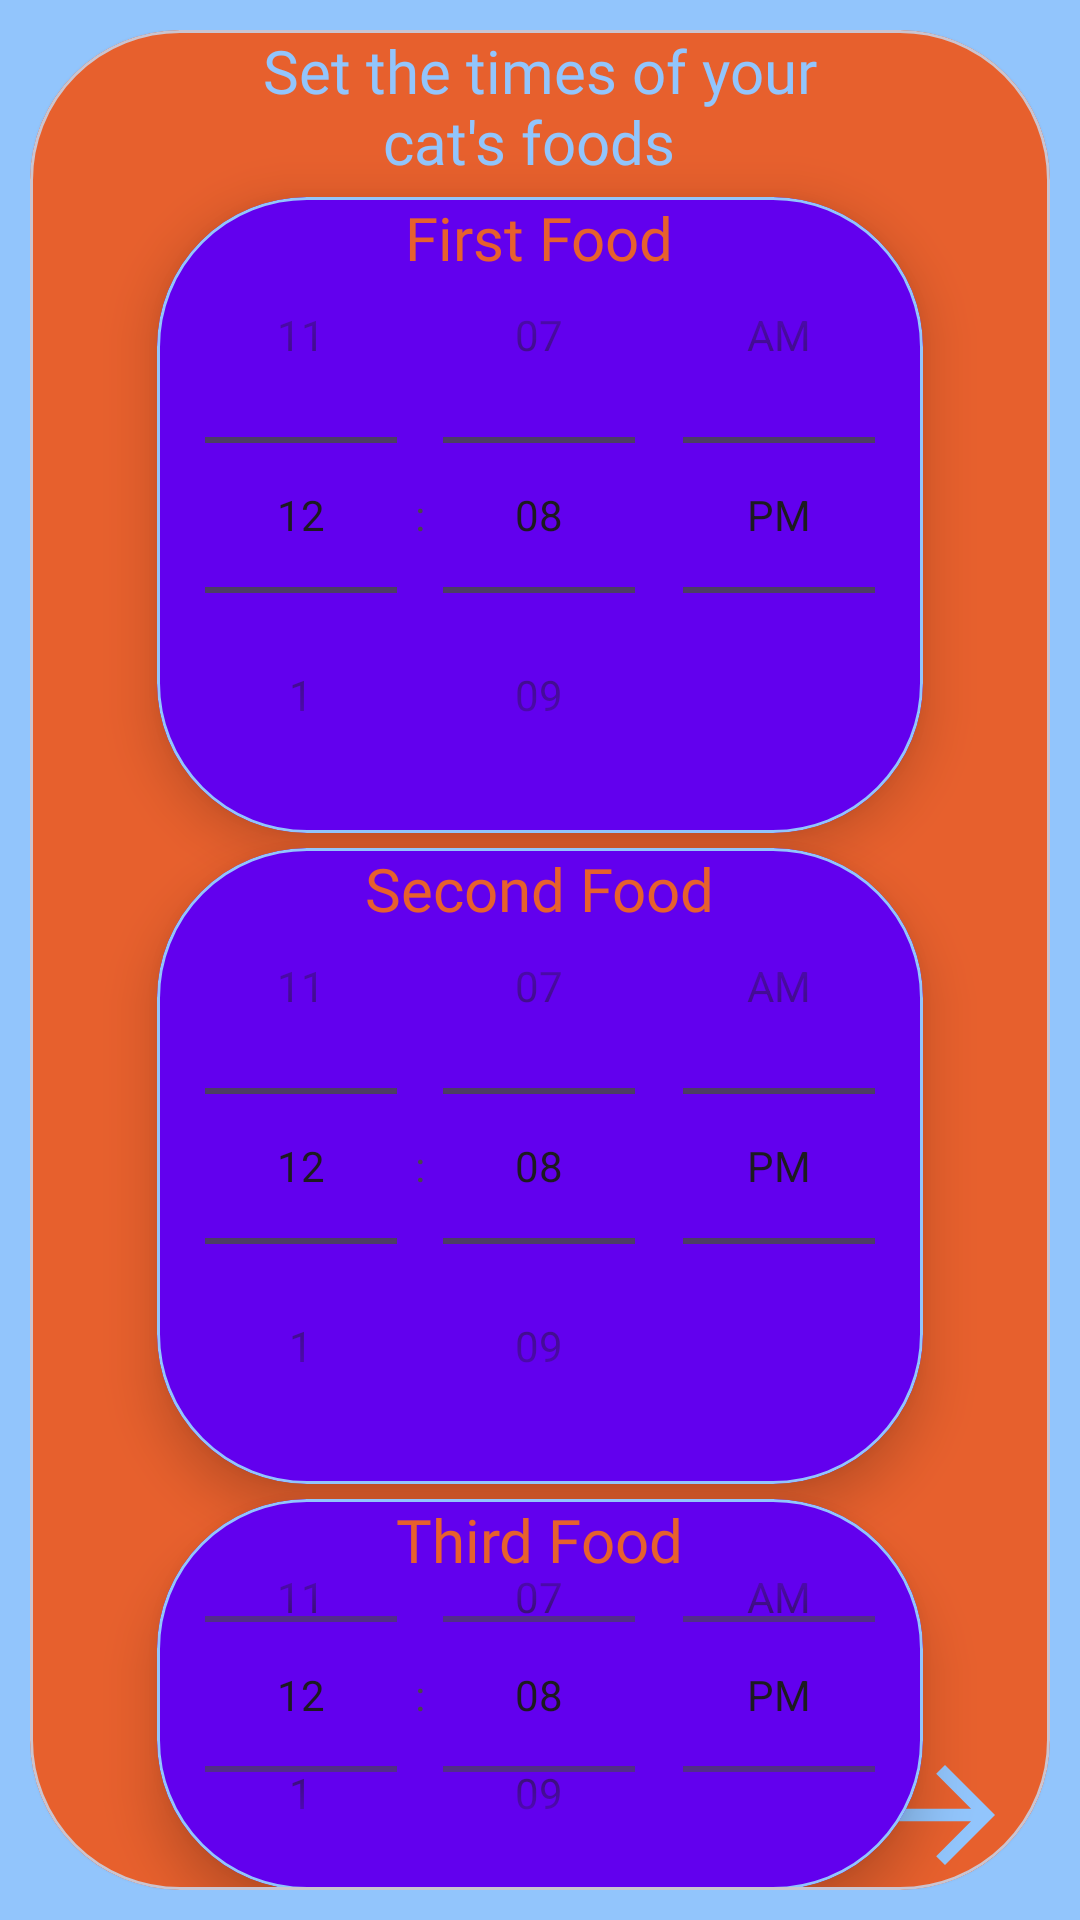

Point at icon controls on the screen. Image size 1080 x 1920, points as (x=x, y=y).
arrow forward sky: (x=945, y=1815)
